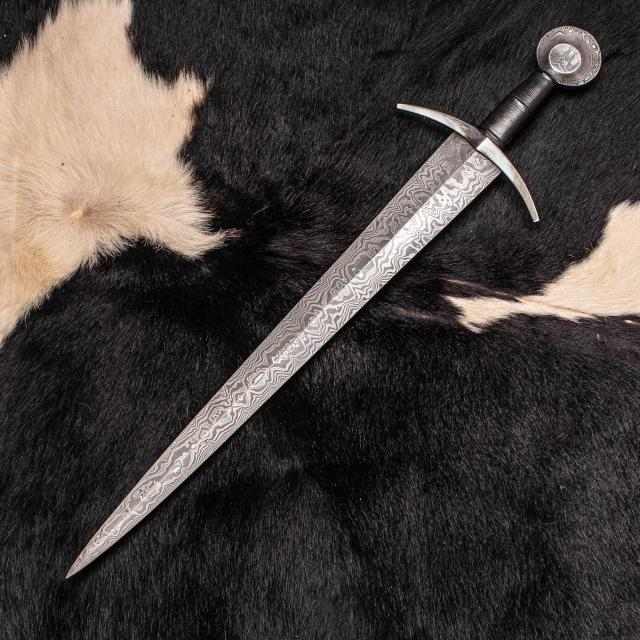weapon: (60, 18, 605, 590)
